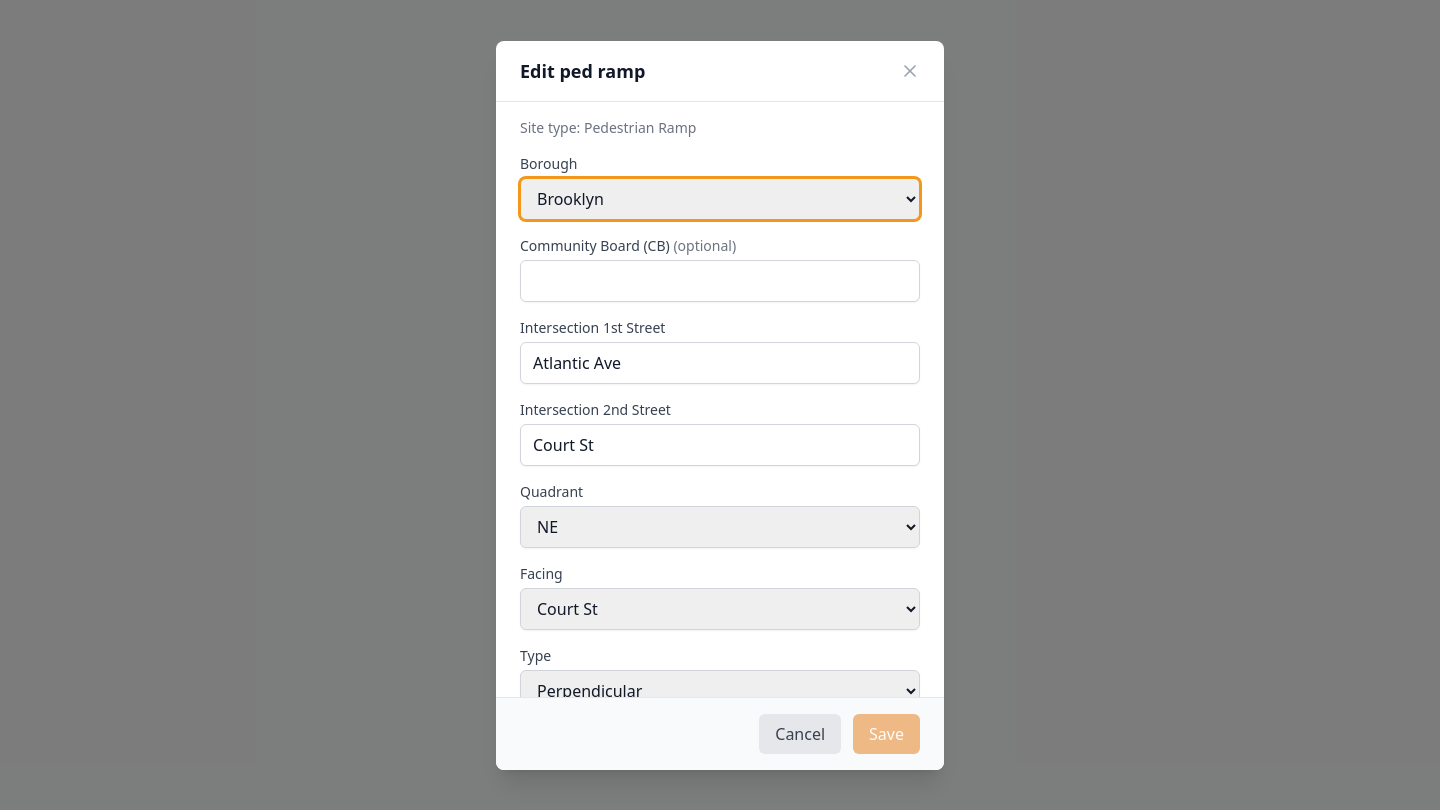
Test: PropertyFormModal — editing › keeps Save off when a required field is emptied
The width and height of the screenshot is (1440, 810).
Clear the field labelled "Intersection 2nd Street". click: (720, 444)
box: [520,424,920,466]
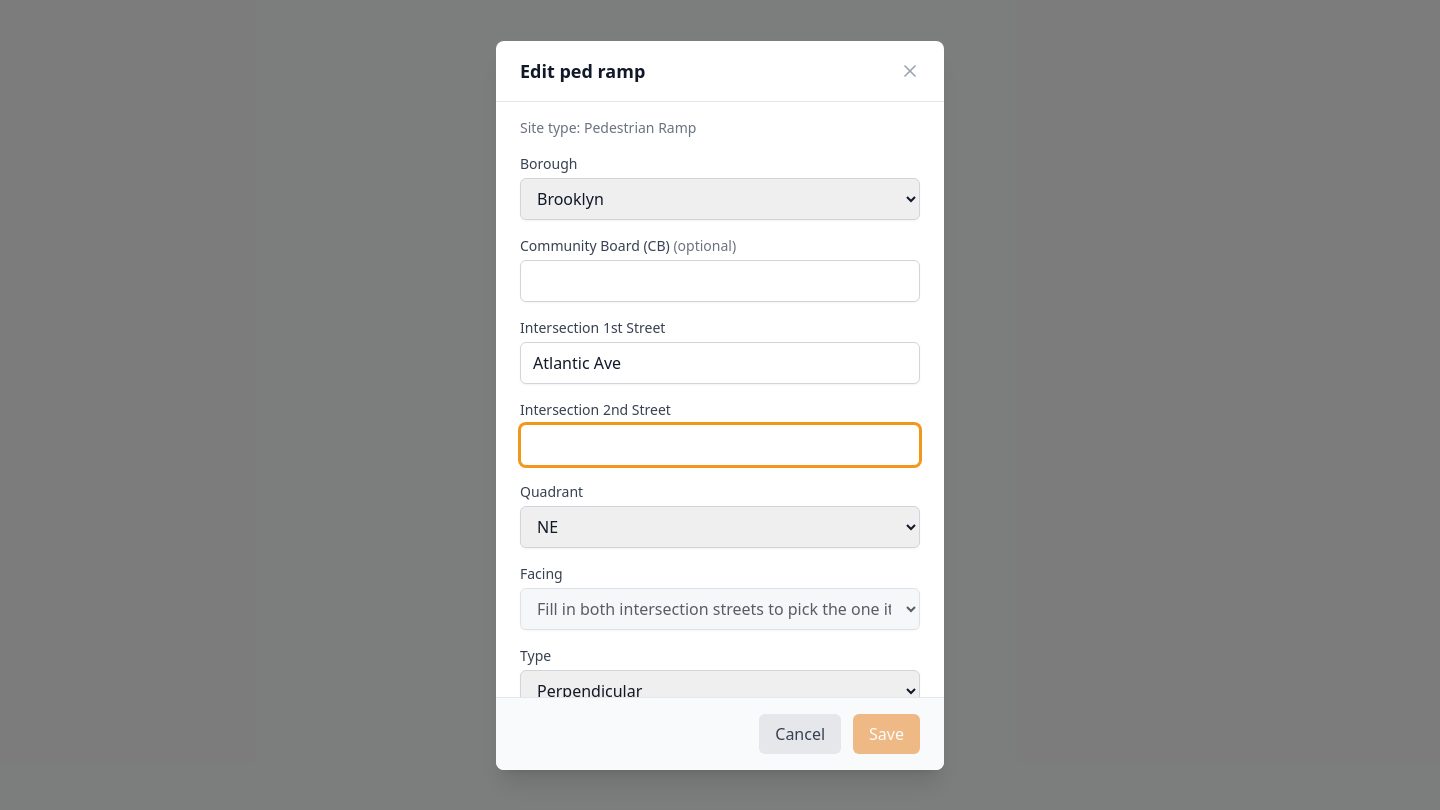
Expected: the button "Save" is disabled, [853,714,920,754]
Now the dropdown labelled "Facing" is disabled, box [520,588,920,630]
